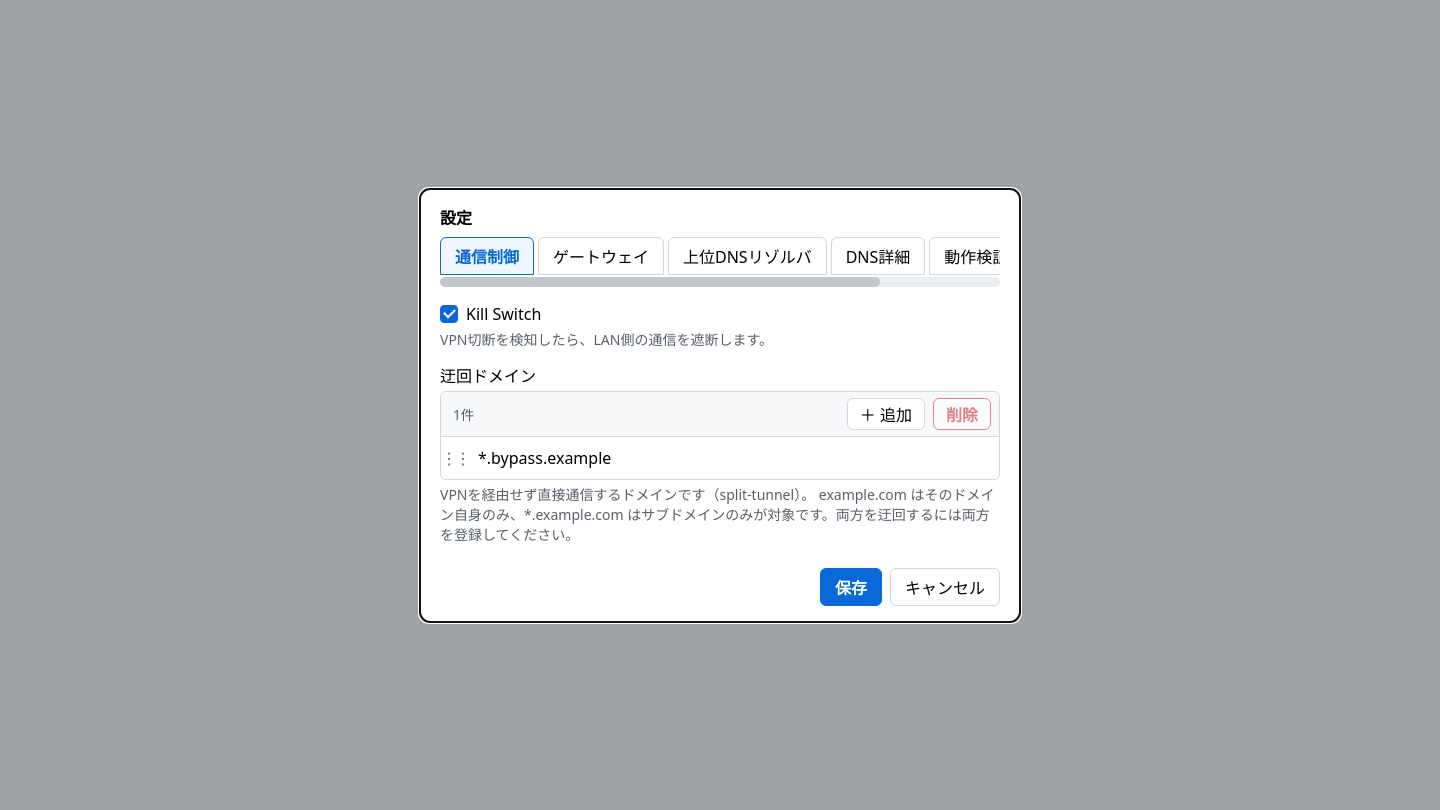
Test: SettingsDialog: 動作検証タブ › 実行中は、閉じたグループに実行中の項目だけを表示し、ボタンは無効（実行中 n/N）
Click the tab "動作検証" at {"x": 976, "y": 256}, box [929,236,1023,274]
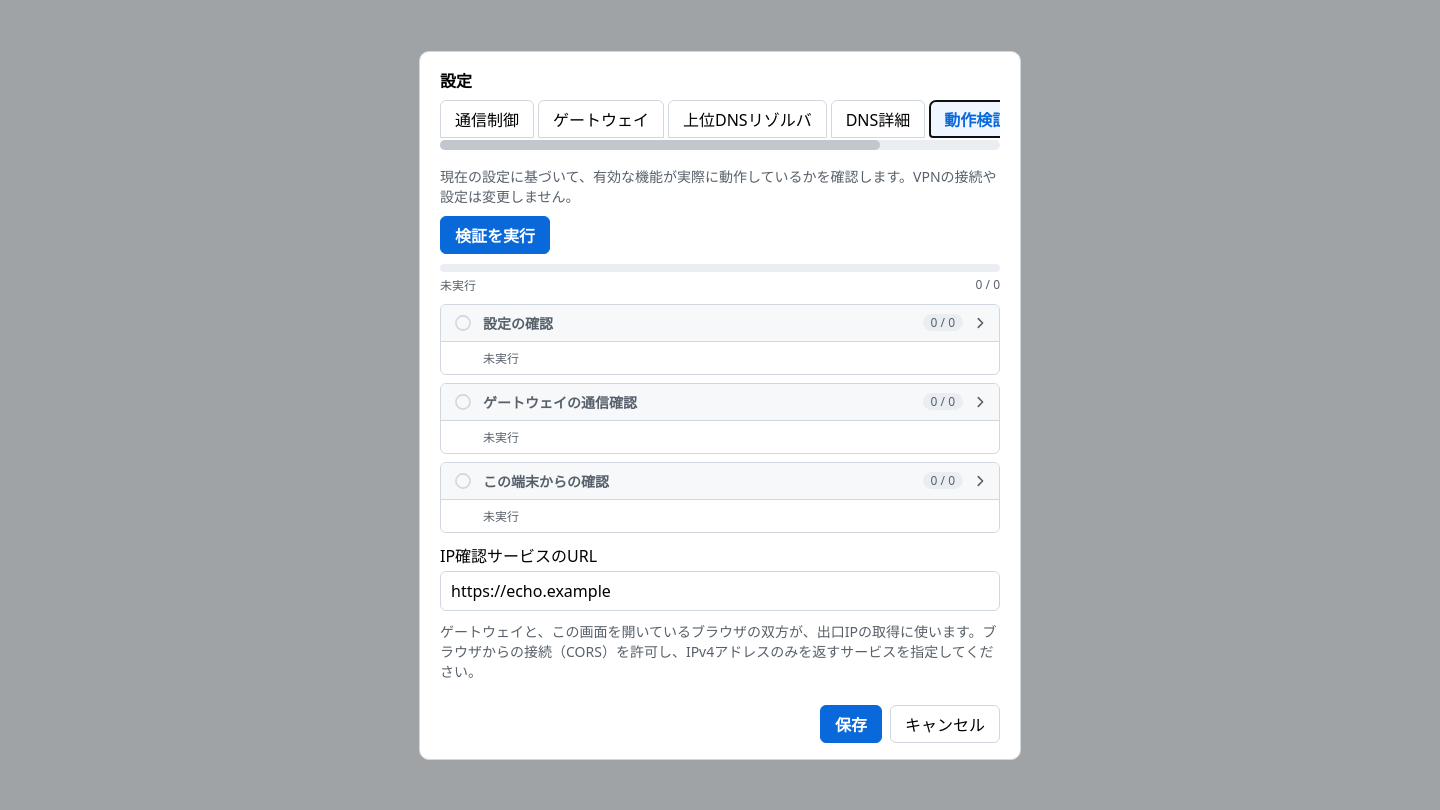
Click the button "検証を実行" at {"x": 495, "y": 234}, box [440,216,550,254]
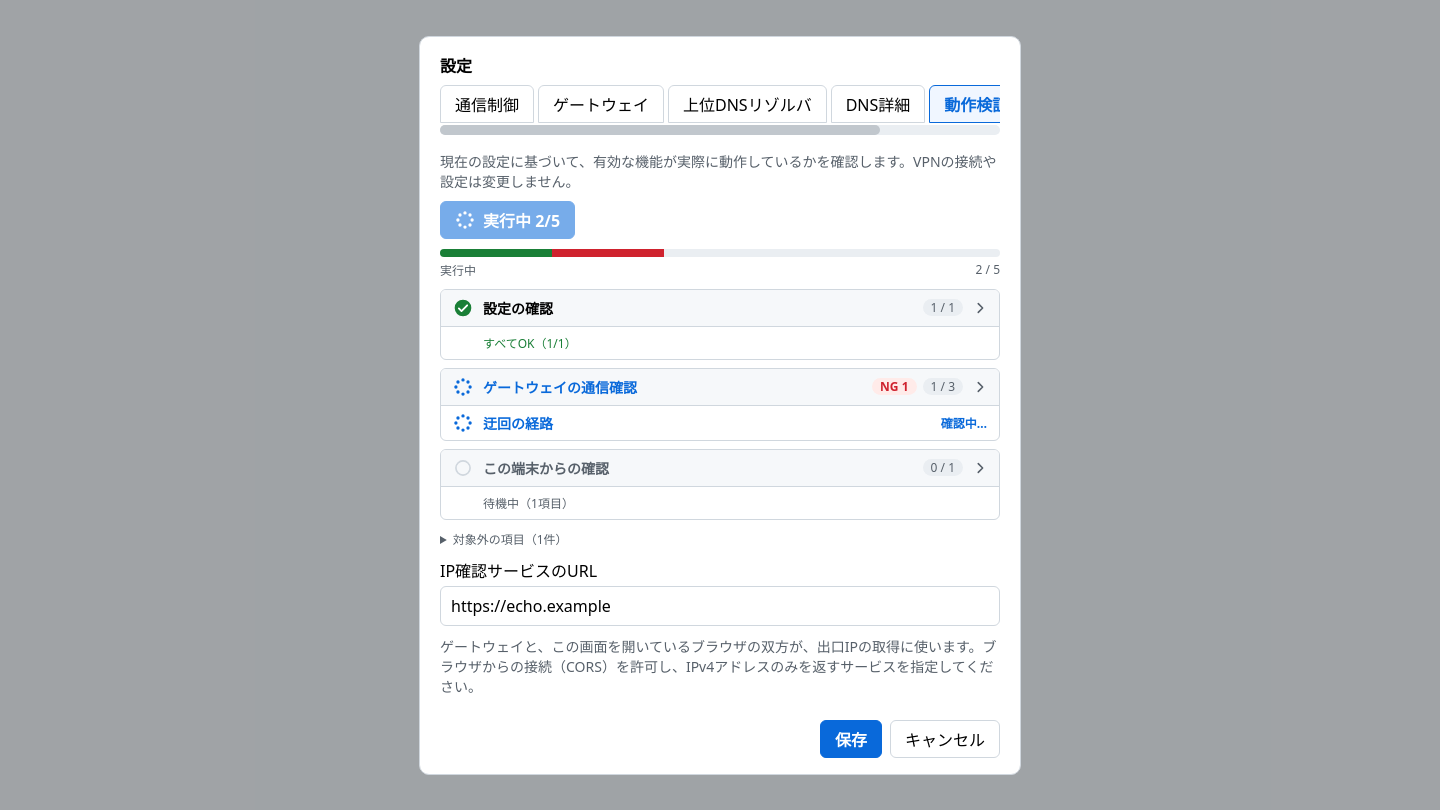
Now the text "迂回の経路" is shown, box [483,414,553,432]
Now the text "確認中…" is shown, box [941,412,987,432]
Now the text "NG 1" is shown, box [872,378,917,395]
